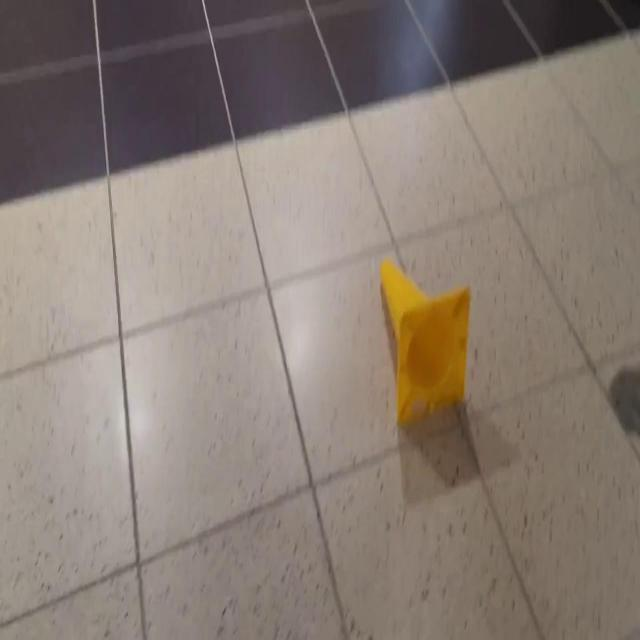frc_cone: (381, 258, 472, 428)
